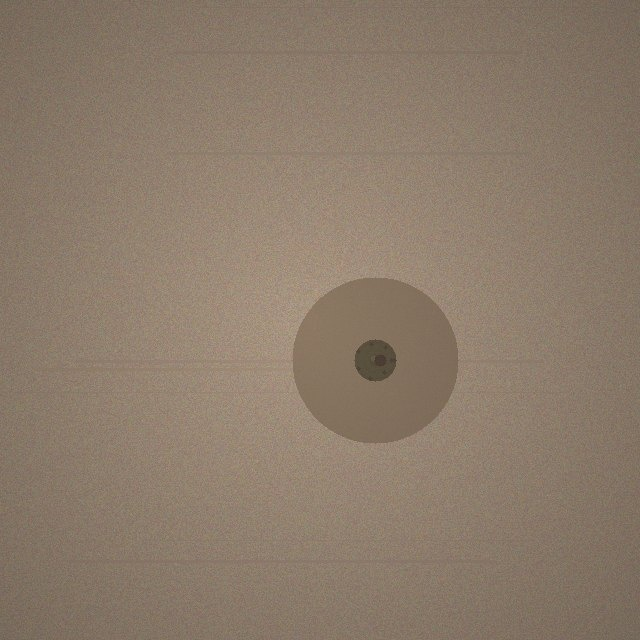cold_weld: (292, 277, 458, 443)
